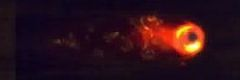keyhole: (187, 30, 200, 43)
